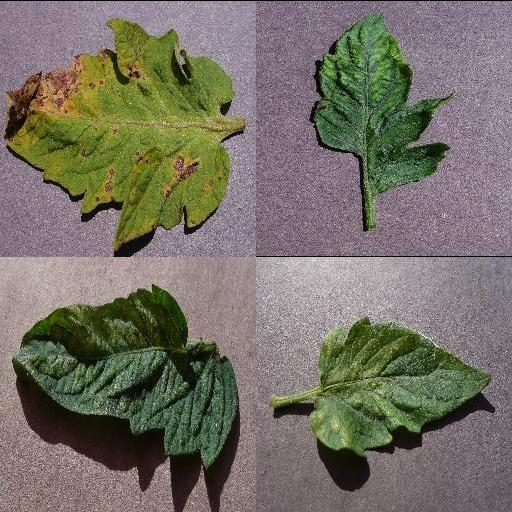Mosaic Virus: (312, 11, 456, 193)
Septoria: (3, 18, 233, 246)
Spider Mites: (11, 283, 237, 464), (308, 317, 492, 455)
